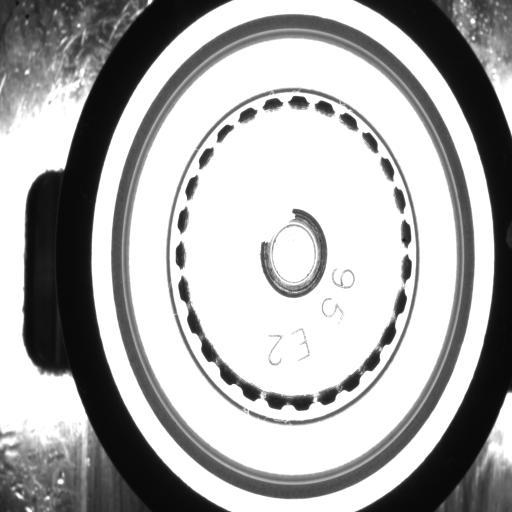gear: (172, 92, 416, 416)
